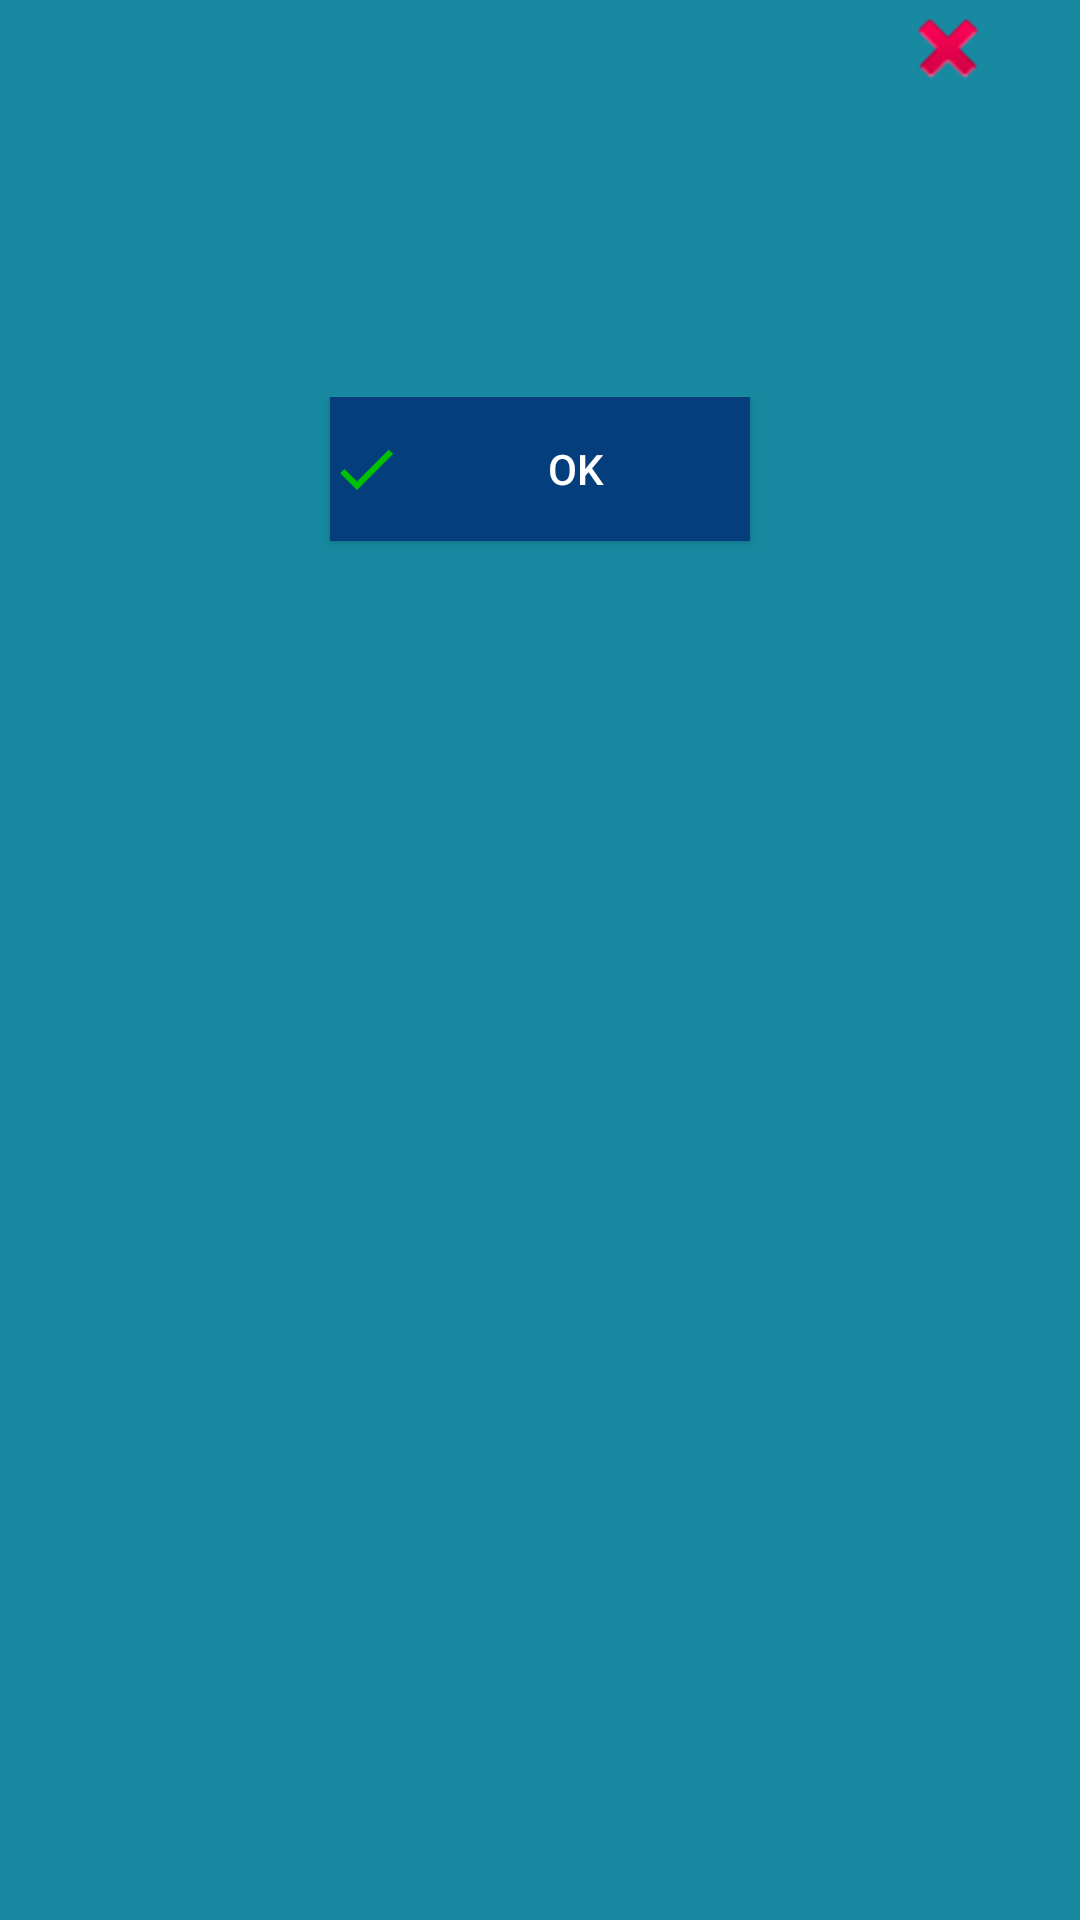

Screen size 1080x1920. Icon name, then its box in pixels as (x1, y1, x2, y2):
delete: (917, 19, 979, 78)
